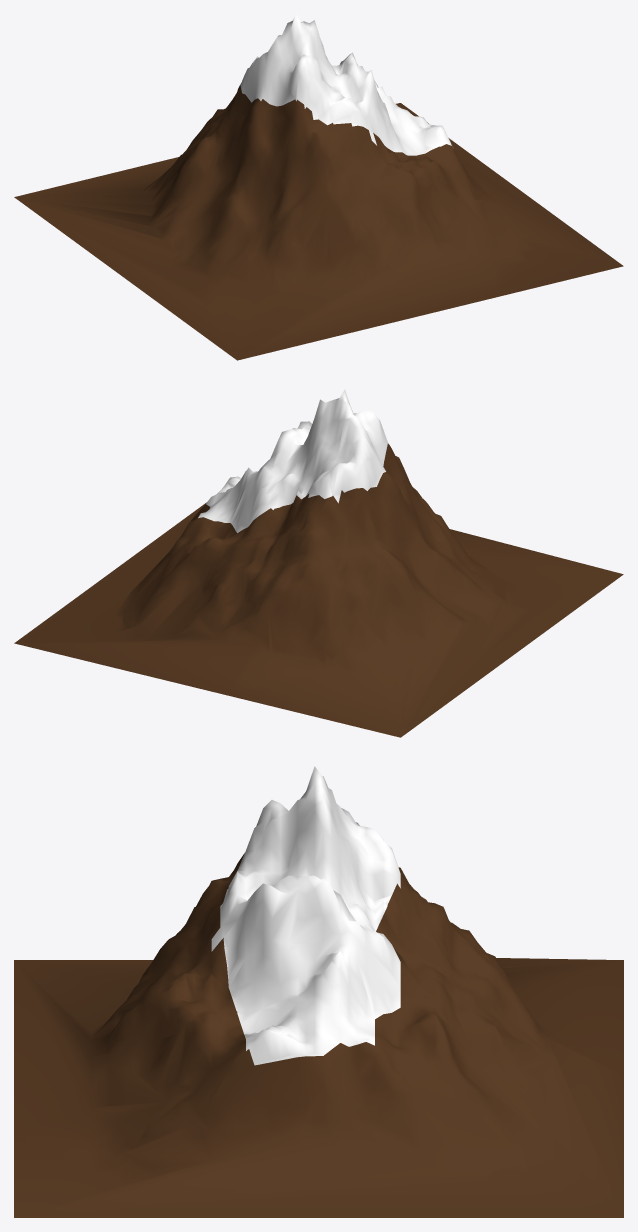
The model's file is mountain.fbx.
3 renders of one model, top to bottom at view 1: azimuth 30°, elevation 25°; view 2: azimuth 150°, elevation 25°; view 3: azimuth 270°, elevation 25°, orthographic. The views are drawn at different scales.
Parts seen in each view (by area): view 1: Landscape.003; view 2: Landscape.003; view 3: Landscape.003.
Part boxes in pixels (x1=…): Landscape.003: x1=14, y1=15, x2=623, y2=360; Landscape.003: x1=14, y1=389, x2=623, y2=737; Landscape.003: x1=14, y1=766, x2=623, y2=1217.
Size of the model in its own units: 668 by 370 by 668.
